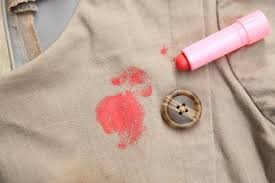lipstick: (92, 95, 147, 147), (119, 63, 155, 100), (106, 73, 144, 94), (161, 45, 169, 56)
